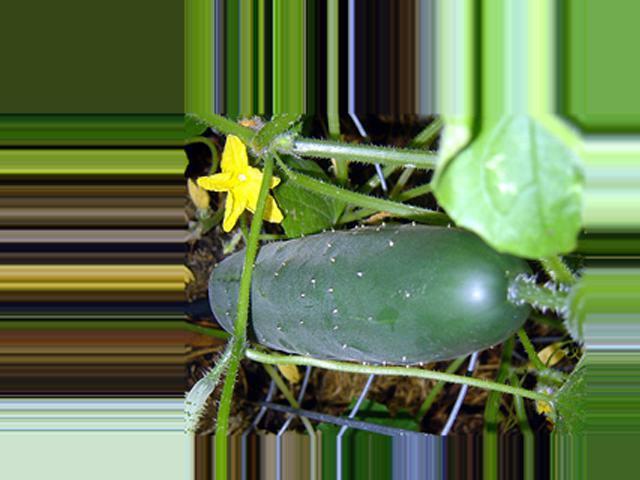cucumber: (210, 224, 537, 364)
